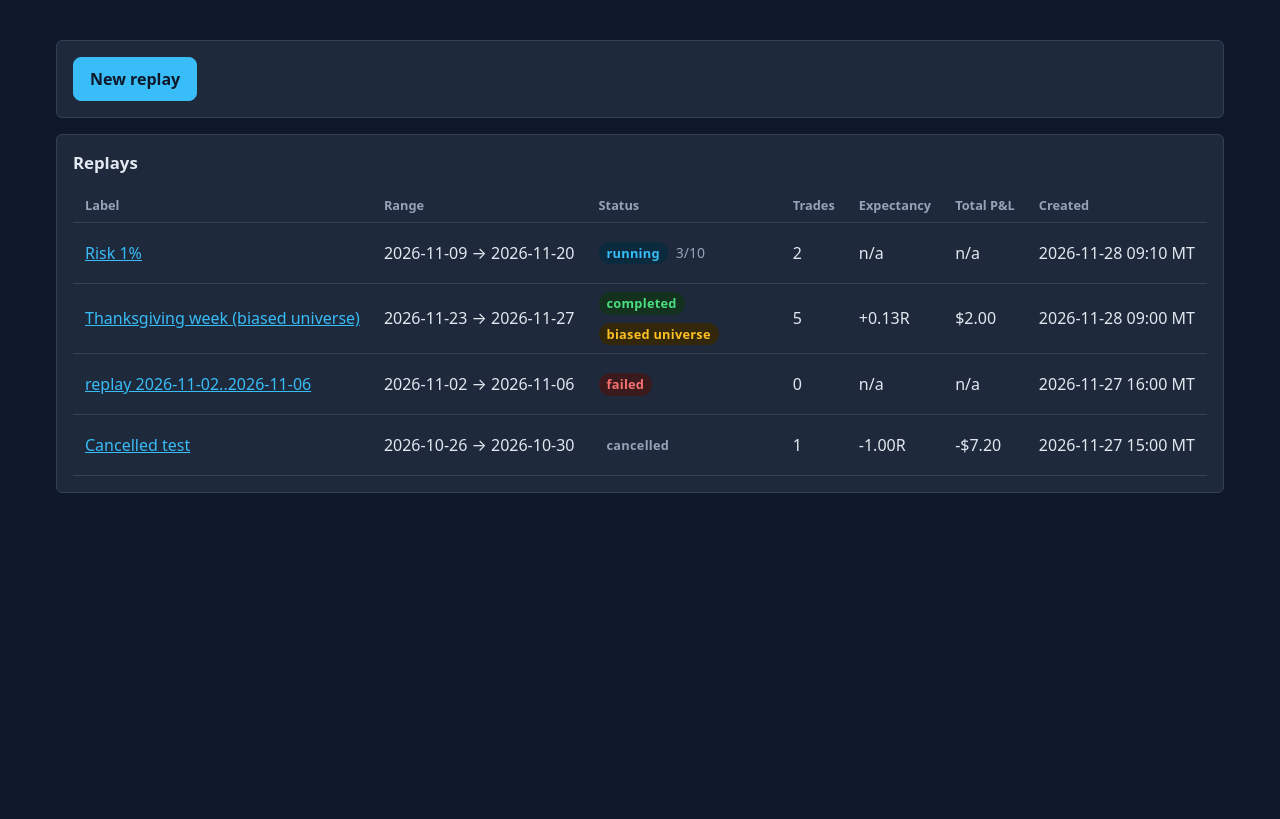
it: hostile server text on the Replay page › 422 field messages and the server message of a failed start render as text
Step 1. Click the button "New replay" → (135, 79), box [73,57,197,101]
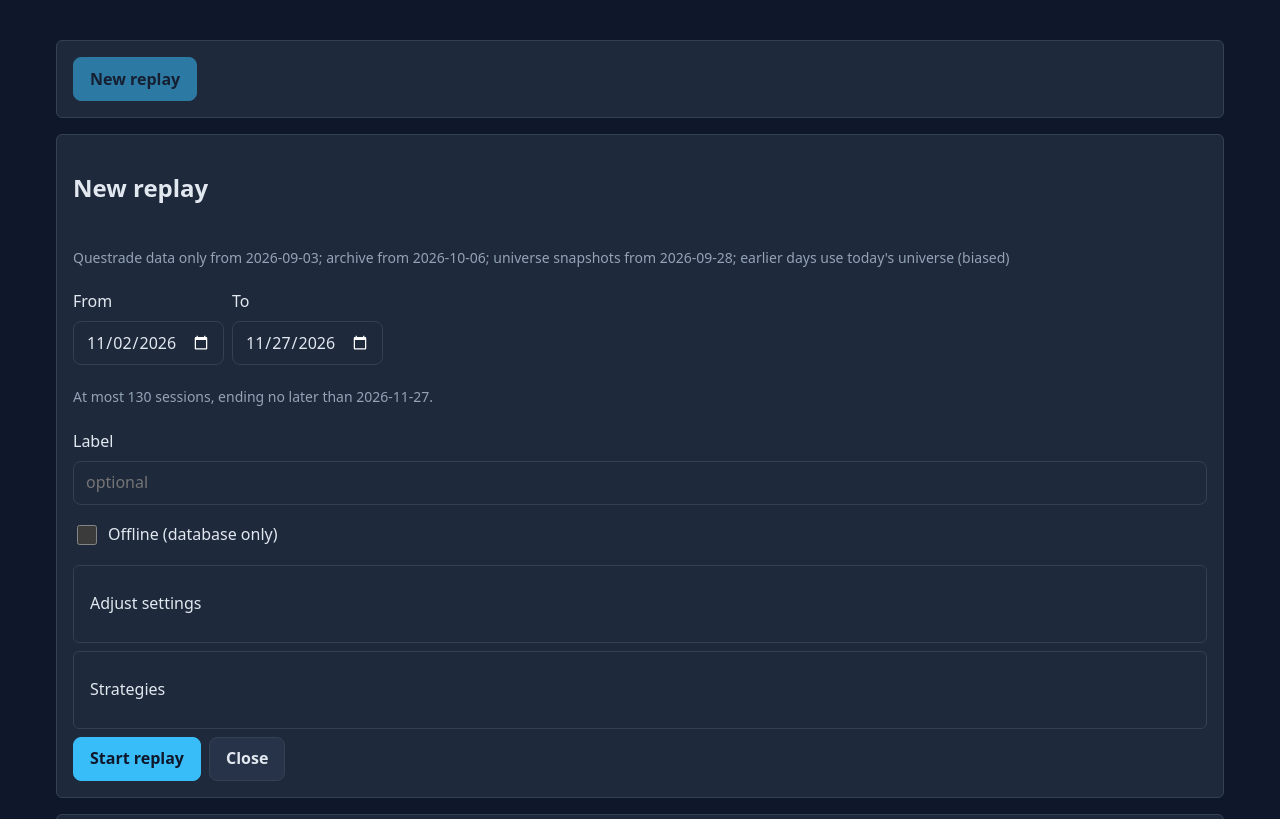
Step 2. Click the button "Start replay" → (137, 759), box [73,737,201,781]
(page scrolled)
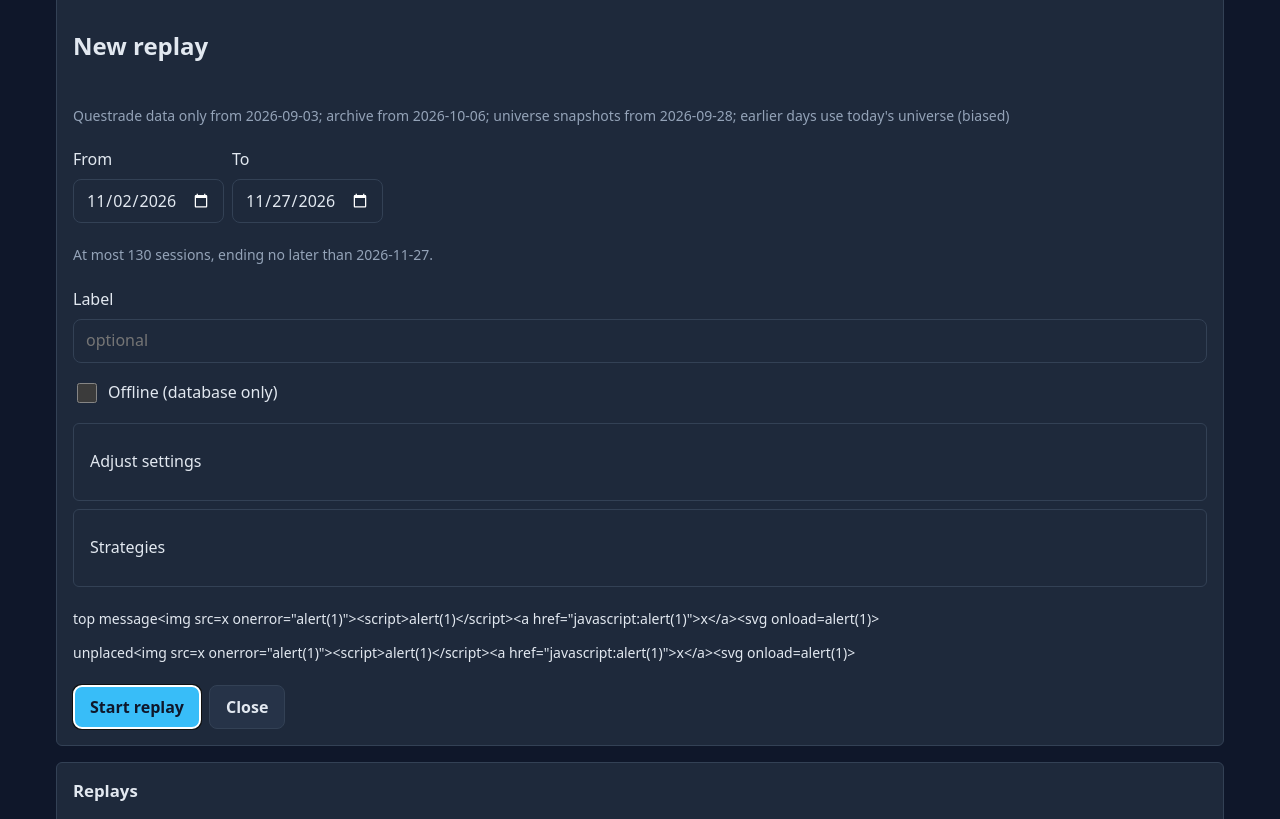
Check: the form "New replay" shows "top message<img", box [73,609,879,628]
Check: the form "New replay" shows "unplaced<img", box [73,643,855,662]
